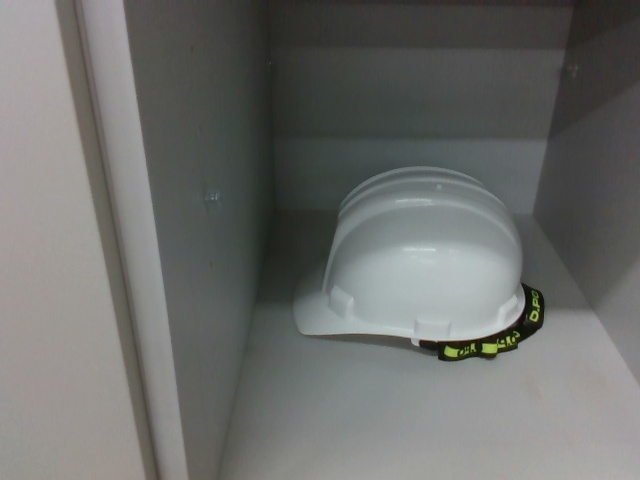helmet: (290, 160, 553, 363)
